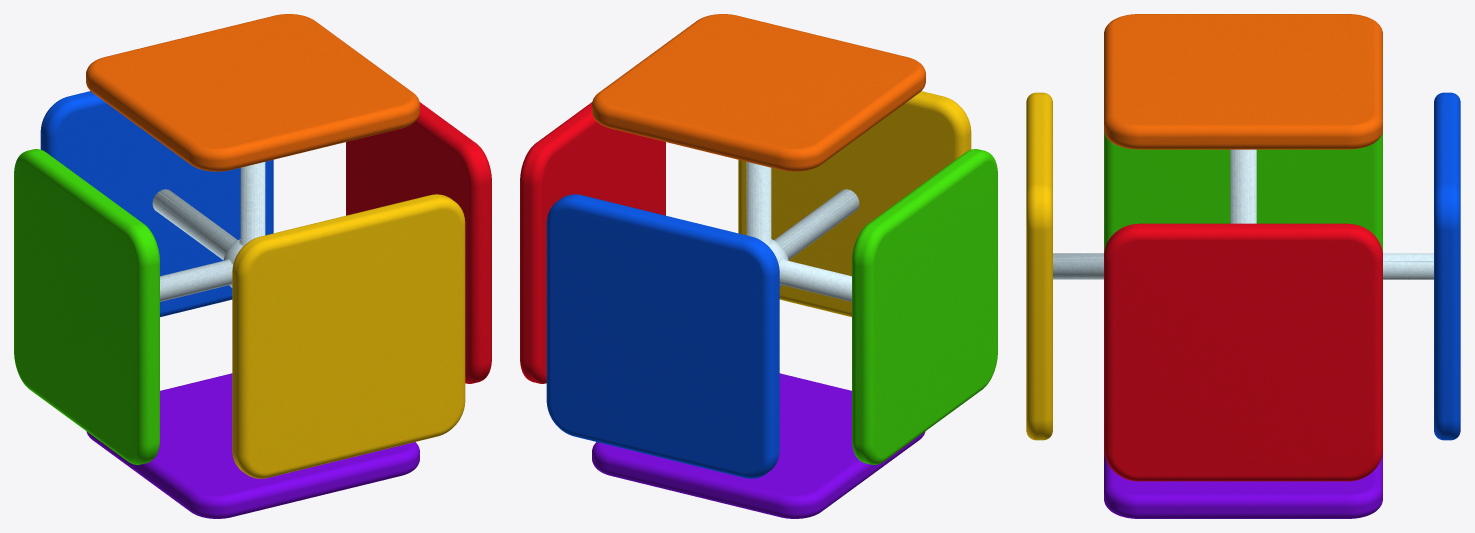
File: snowcube.glb
3 views of the same model, side by side, from view 1: azimuth 30°, elevation 25°; view 2: azimuth 150°, elevation 25°; view 3: azimuth 270°, elevation 25° (orthographic). The views are drawn at different scales.
Visible parts, largest first — view 1: Panel_Yellow_Front, Panel_Green_Left, Panel_Orange_Top, Panel_Blue_Back, Panel_Purple_Bottom, Panel_Red_Right, Ice_Central_Hub_And_Six_Stems; view 2: Panel_Blue_Back, Panel_Green_Left, Panel_Orange_Top, Panel_Yellow_Front, Panel_Purple_Bottom, Panel_Red_Right, Ice_Central_Hub_And_Six_Stems; view 3: Panel_Red_Right, Panel_Orange_Top, Panel_Green_Left, Panel_Purple_Bottom, Panel_Yellow_Front, Panel_Blue_Back, Ice_Central_Hub_And_Six_Stems.
Boxes of the visible parts, box(x1,y1,x2,y2) form: Panel_Yellow_Front: box(232, 194, 465, 478); Panel_Green_Left: box(14, 149, 159, 464); Panel_Orange_Top: box(86, 14, 419, 171); Panel_Blue_Back: box(40, 91, 273, 316); Panel_Purple_Bottom: box(86, 373, 419, 518); Panel_Red_Right: box(346, 102, 491, 383); Ice_Central_Hub_And_Six_Stems: box(152, 162, 265, 301); Panel_Blue_Back: box(546, 194, 779, 478); Panel_Green_Left: box(852, 149, 997, 464); Panel_Orange_Top: box(592, 14, 925, 171); Panel_Yellow_Front: box(738, 91, 971, 316); Panel_Purple_Bottom: box(592, 373, 925, 518); Panel_Red_Right: box(520, 102, 665, 383); Ice_Central_Hub_And_Six_Stems: box(746, 162, 859, 301); Panel_Red_Right: box(1104, 223, 1382, 481); Panel_Orange_Top: box(1104, 14, 1382, 149); Panel_Green_Left: box(1104, 131, 1382, 252); Panel_Purple_Bottom: box(1104, 452, 1382, 518); Panel_Yellow_Front: box(1026, 92, 1052, 440); Panel_Blue_Back: box(1434, 92, 1460, 440); Ice_Central_Hub_And_Six_Stems: box(1053, 149, 1433, 279).
Bounding box in the file's own units: 1.96 × 1.96 × 1.96.
Materials: 7 (7 with a texture image).
